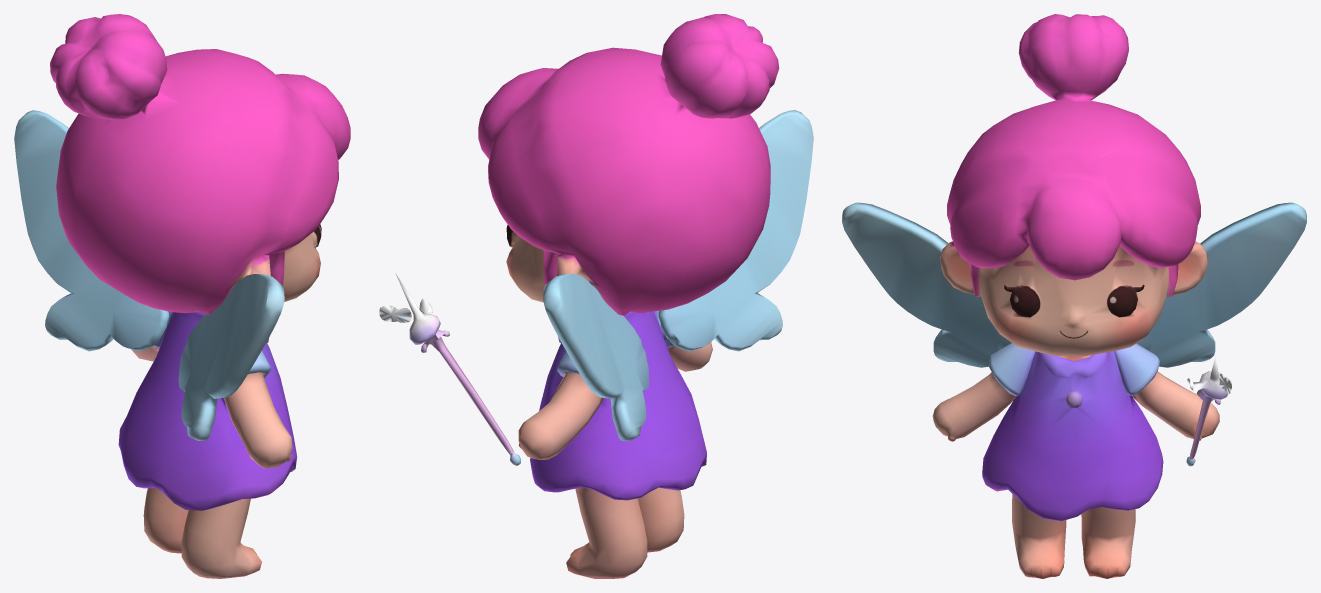
The model's file is npc-fairy.glb.
3 renders of one model, left to right at view 1: azimuth 30°, elevation 25°; view 2: azimuth 150°, elevation 25°; view 3: azimuth 270°, elevation 25°, orthographic. The views are drawn at different scales.
Visible parts, largest first — view 1: tripo_node_8eccf83e-9cb2-4795-8763-1b764e1f3bf9; view 2: tripo_node_8eccf83e-9cb2-4795-8763-1b764e1f3bf9; view 3: tripo_node_8eccf83e-9cb2-4795-8763-1b764e1f3bf9.
Part boxes in pixels (<box>): tripo_node_8eccf83e-9cb2-4795-8763-1b764e1f3bf9: <box>14,14,350,578</box>; tripo_node_8eccf83e-9cb2-4795-8763-1b764e1f3bf9: <box>379,14,813,578</box>; tripo_node_8eccf83e-9cb2-4795-8763-1b764e1f3bf9: <box>842,14,1306,578</box>.
Size of the model in its own units: 0.5605 by 0.998 by 0.8223.
Materials: 1 (1 with a texture image).
